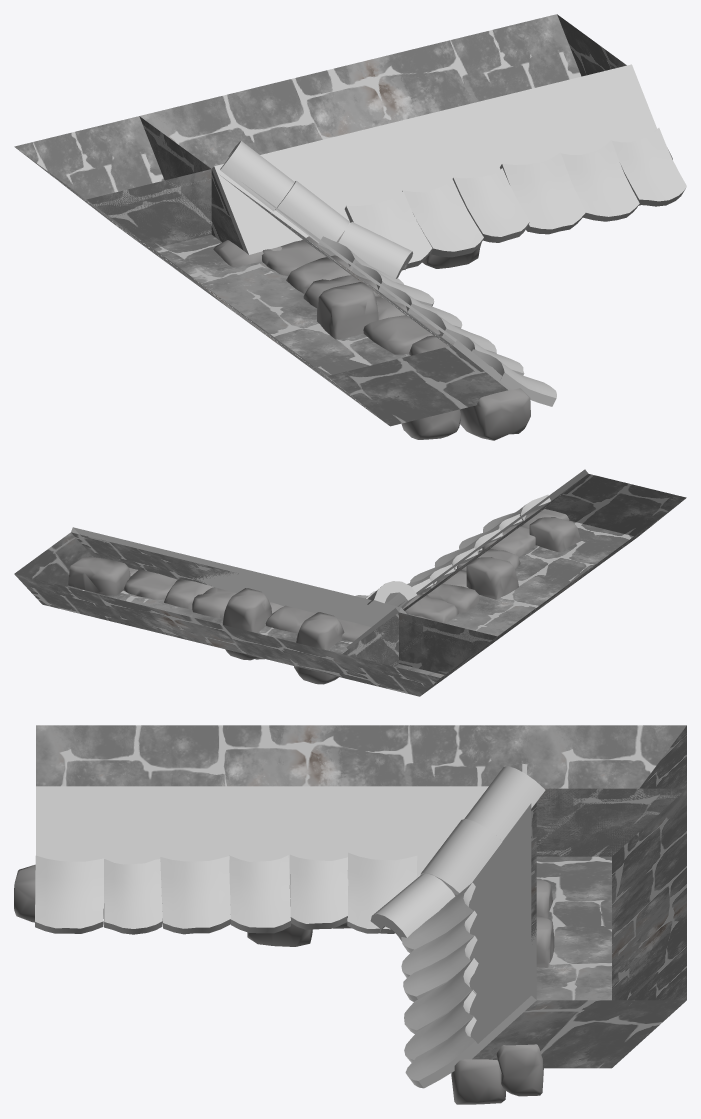
Rendered from Roof_End_Corner_Mid.fbx.
3 views of the same model, one above another, from view 1: azimuth 30°, elevation 25°; view 2: azimuth 150°, elevation 25°; view 3: azimuth 270°, elevation 25° (orthographic). The views are drawn at different scales.
Parts seen in each view (by area): view 1: Wall.023, Plane.053, rocks; view 2: Wall.023, rocks, Plane.053; view 3: Plane.053, Wall.023, rocks.
Boxes of the visible parts, x1=… form: Wall.023: x1=14, y1=14, x2=626, y2=426; Plane.053: x1=212, y1=64, x2=686, y2=406; rocks: x1=213, y1=149, x2=672, y2=440; Wall.023: x1=14, y1=473, x2=686, y2=696; rocks: x1=68, y1=509, x2=580, y2=684; Plane.053: x1=71, y1=469, x2=588, y2=649; Plane.053: x1=35, y1=766, x2=545, y2=1088; Wall.023: x1=36, y1=725, x2=686, y2=1068; rocks: x1=14, y1=865, x2=554, y2=1104.
Size of the model in its own units: 6.6 by 1.69 by 6.72.
